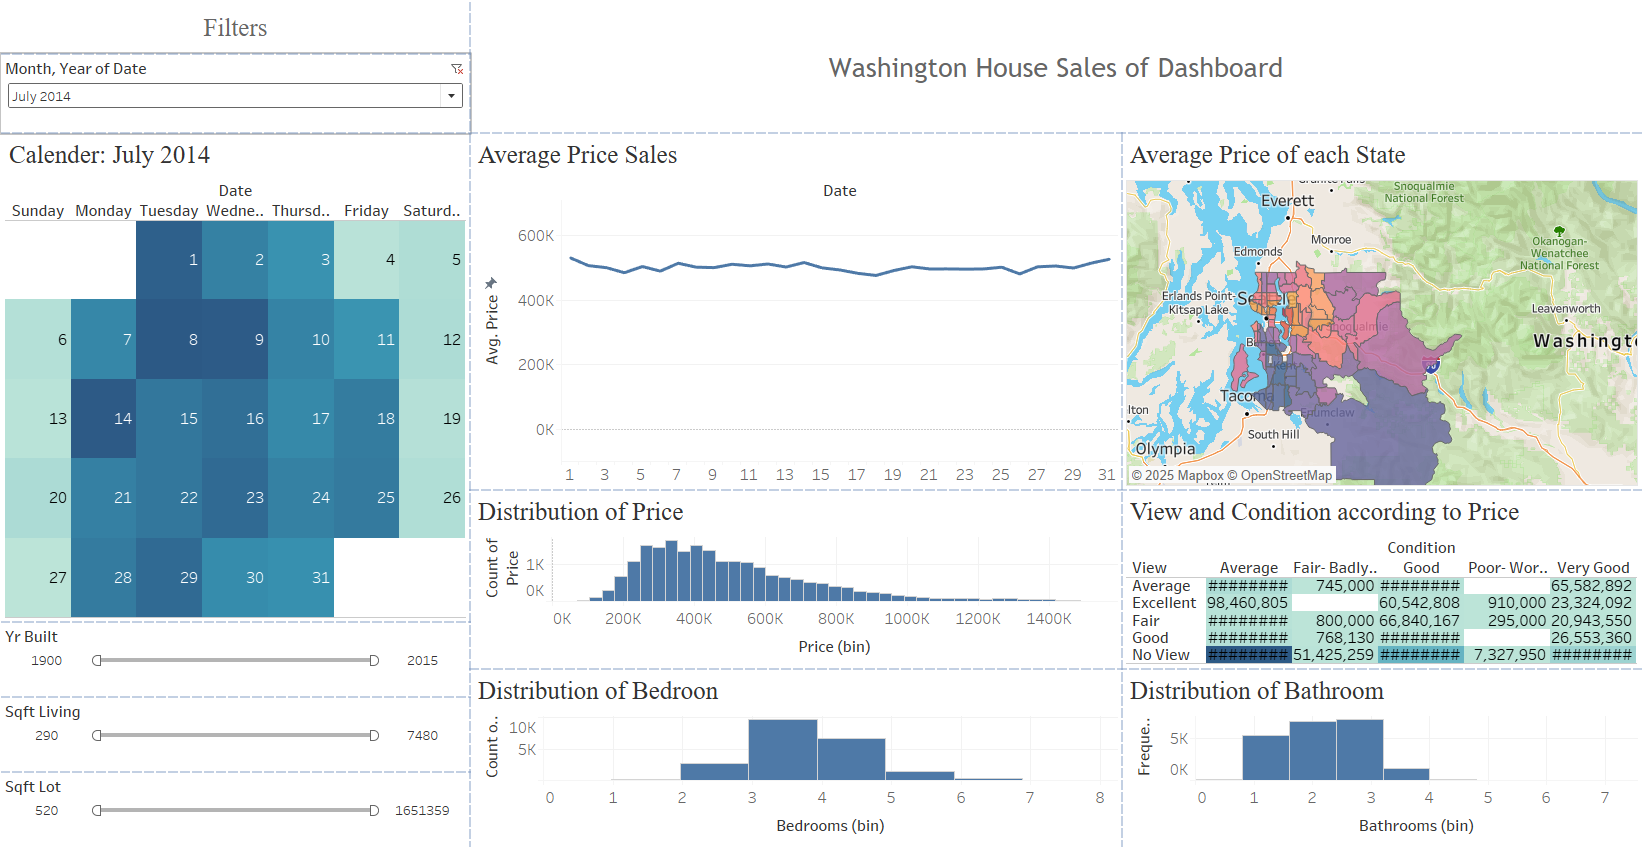

The dashboard page shown, as its layout file describes it:
{"tool":"tableau","page":{"name":"Dashboard 1","canvas":[1000,1000],"units":"permille","ordinal":0},"visuals":[{"type":"text","box":[4.7,9.3,283,60.4]},{"type":"text","box":[287.7,9.3,707.6,152.2]},{"type":"filter","title":"calender","param":"[federated.0rzmcfv0io2blp15njpq10g9djb6].[my:date:ok]","box":[4.7,69.7,283,91.8]},{"type":"worksheet","title":"calender","mark":"Square","rows":["date"],"cols":["date"],"box":[4.7,161.4,283,567.9]},{"type":"worksheet","title":"Line Chart","mark":"Automatic","rows":["price"],"cols":["date"],"box":[287.7,161.4,393.7,414.6]},{"type":"worksheet","title":" Map","mark":"Automatic","box":[681.4,161.4,313.9,414.6]},{"type":"worksheet","title":"Hist","mark":"Automatic","rows":["price"],"cols":["Price (bin)"],"box":[287.7,576.1,393.7,207.3]},{"type":"worksheet","title":"Heat Map","mark":"Square","rows":["view"],"cols":["condition"],"box":[681.4,576.1,313.9,207.3]},{"type":"filter","title":"calender","param":"[federated.0rzmcfv0io2blp15njpq10g9djb6].[none:yr_built:qk]","box":[4.7,729.4,283,87.1]},{"type":"worksheet","title":"Hist 2","mark":"Automatic","rows":["bedrooms"],"cols":["Bedrooms (bin)"],"box":[287.7,783.4,393.7,207.3]},{"type":"worksheet","title":"Hist 3","mark":"Automatic","rows":["bathrooms"],"cols":["Bathrooms (bin)"],"box":[681.4,783.4,313.9,207.3]},{"type":"filter","title":"calender","param":"[federated.0rzmcfv0io2blp15njpq10g9djb6].[none:sqft_living:qk]","box":[4.7,816.5,283,87.1]},{"type":"filter","title":"calender","param":"[federated.0rzmcfv0io2blp15njpq10g9djb6].[none:sqft_lot:qk]","box":[4.7,903.6,283,87.1]}]}

Visuals, with their boxes on the dashboard's canvas, which has no fixed pixel size, in thousandths of its width and height (x1, y1, x2, y2). These are canvas units, not pixel positions in the 1650x855 screenshot, which may show the page scaled, cropped or inside an application window:
text: bbox=[5, 9, 288, 70]
text: bbox=[288, 9, 995, 162]
"calender" filter: bbox=[5, 70, 288, 162]
"calender" worksheet (Square marks): bbox=[5, 161, 288, 729]
"Line Chart" worksheet: bbox=[288, 161, 681, 576]
" Map" worksheet: bbox=[681, 161, 995, 576]
"Hist" worksheet: bbox=[288, 576, 681, 783]
"Heat Map" worksheet (Square marks): bbox=[681, 576, 995, 783]
"calender" filter: bbox=[5, 729, 288, 816]
"Hist 2" worksheet: bbox=[288, 783, 681, 991]
"Hist 3" worksheet: bbox=[681, 783, 995, 991]
"calender" filter: bbox=[5, 816, 288, 904]
"calender" filter: bbox=[5, 904, 288, 991]
